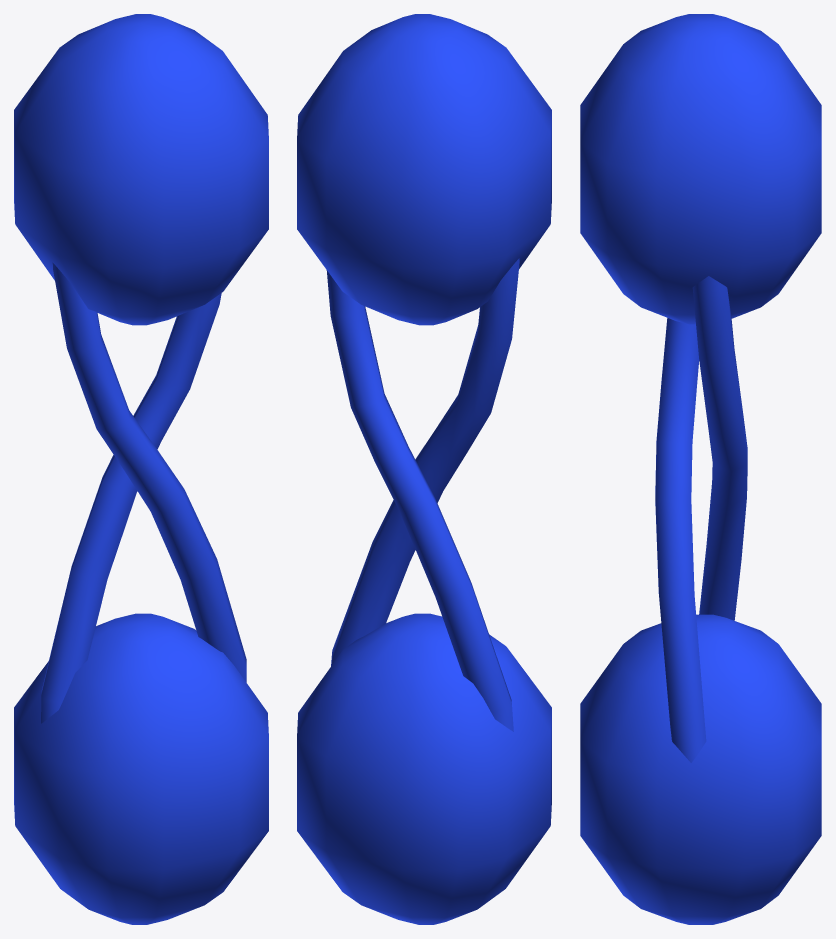
The model's file is Cell.glb.
3 views of the same model, side by side, from view 1: azimuth 30°, elevation 25°; view 2: azimuth 150°, elevation 25°; view 3: azimuth 270°, elevation 25° (orthographic).
Parts seen in each view (by area): view 1: Cell; view 2: Cell; view 3: Cell.
Boxes of the visible parts, <box> form: Cell: <box>14,14,268,924</box>; Cell: <box>297,14,551,924</box>; Cell: <box>580,14,821,924</box>.
Size of the model in its own units: 1.23 by 5.03 by 1.23.
1 material, 1 textured.
